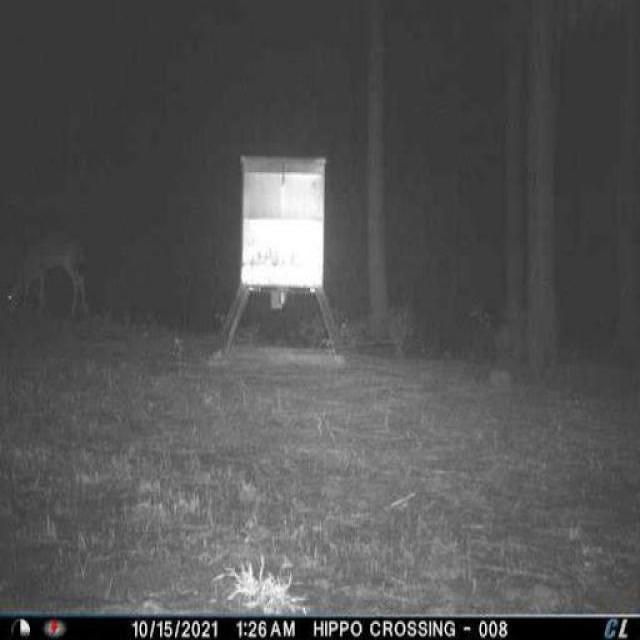deer: (6, 226, 99, 334)
